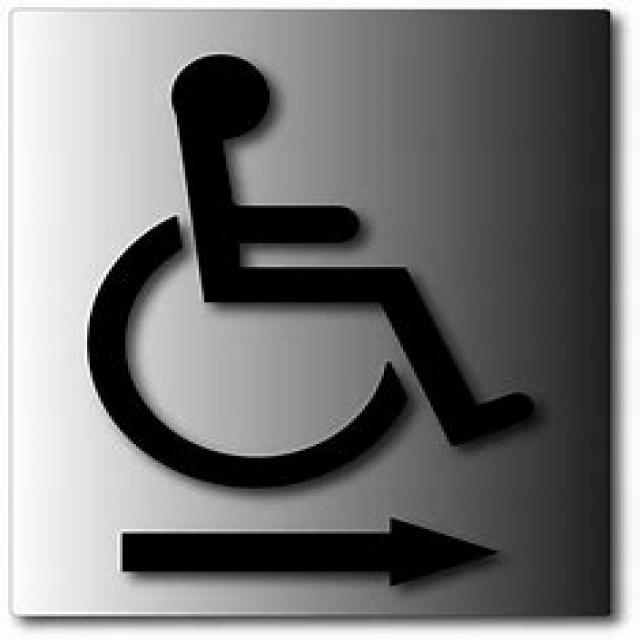ISA: (83, 58, 553, 495)
